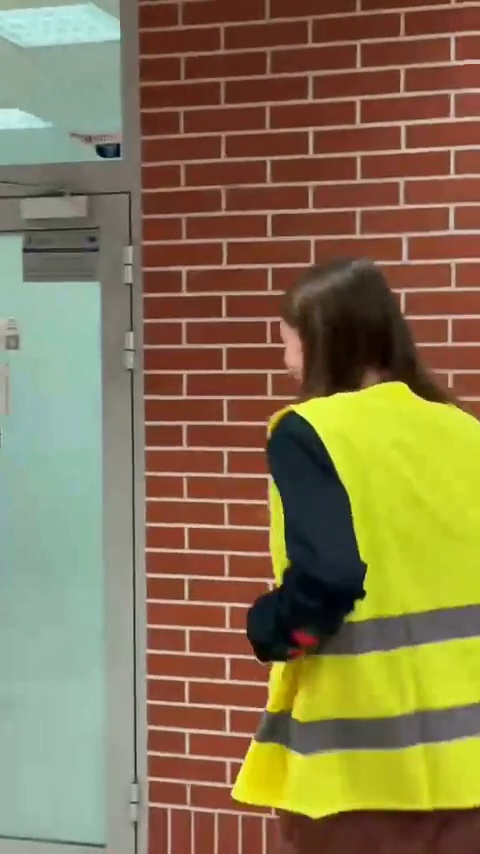vest: (218, 256, 480, 853)
